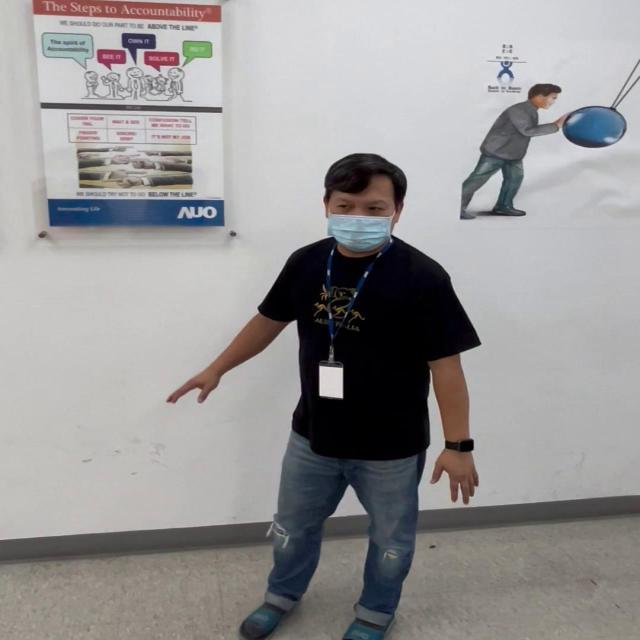bare_hand: (429, 442, 480, 507), (163, 364, 223, 408)
